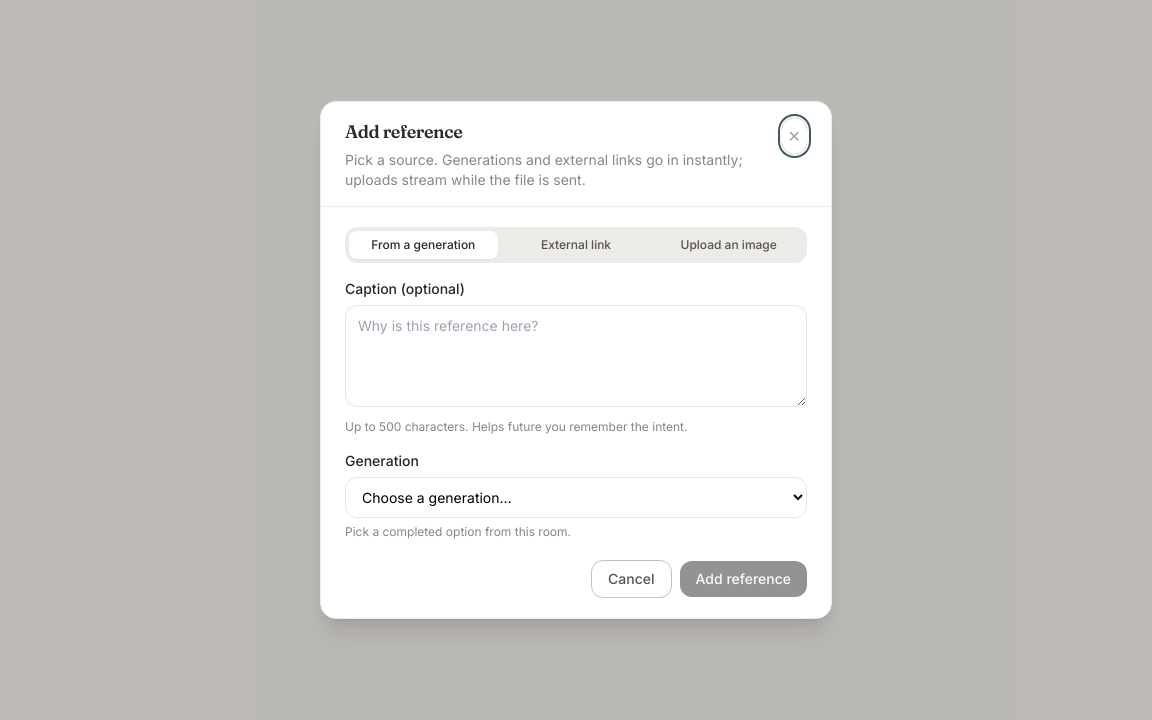
Test: <AddReferenceModal /> › validates EXTERNAL_URL before allowing submit
Click the tab "External link".
click(576, 245)  # box [502,231,650,259]
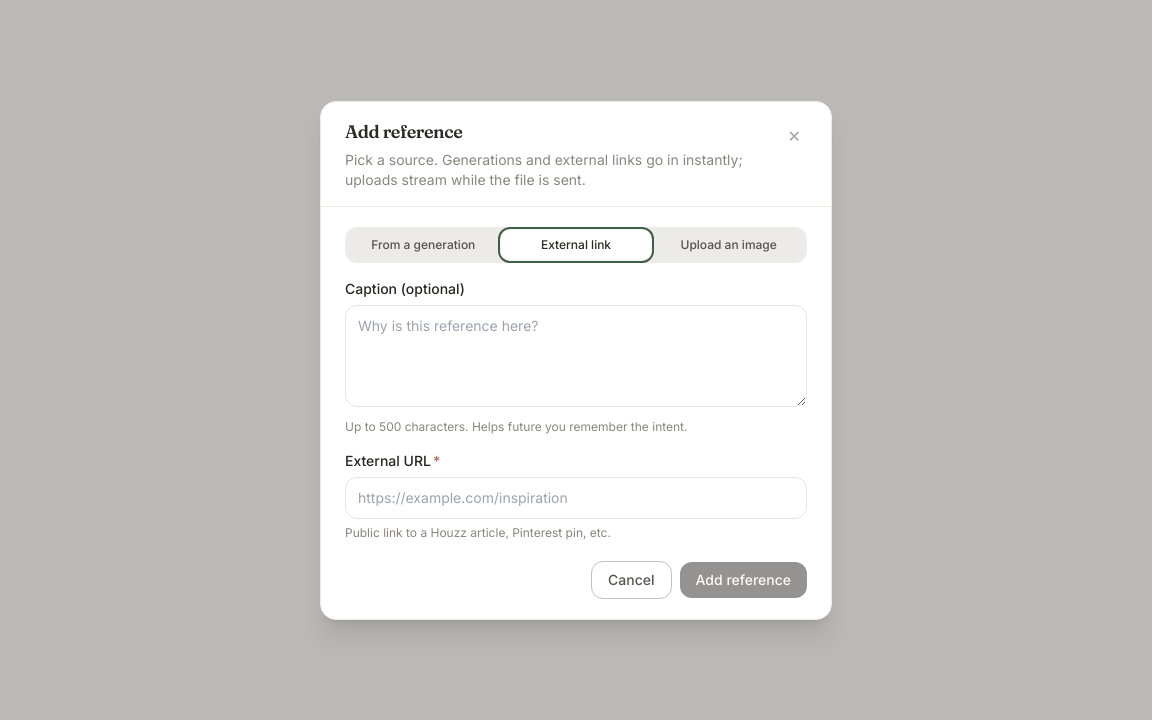
Check: the button with test id "add-reference-submit" is disabled, box [680,562,807,598]
Type "not-a-url" into the field labelled "External URL*".
click(576, 498); type("not-a-url")  # box [345,476,807,518]
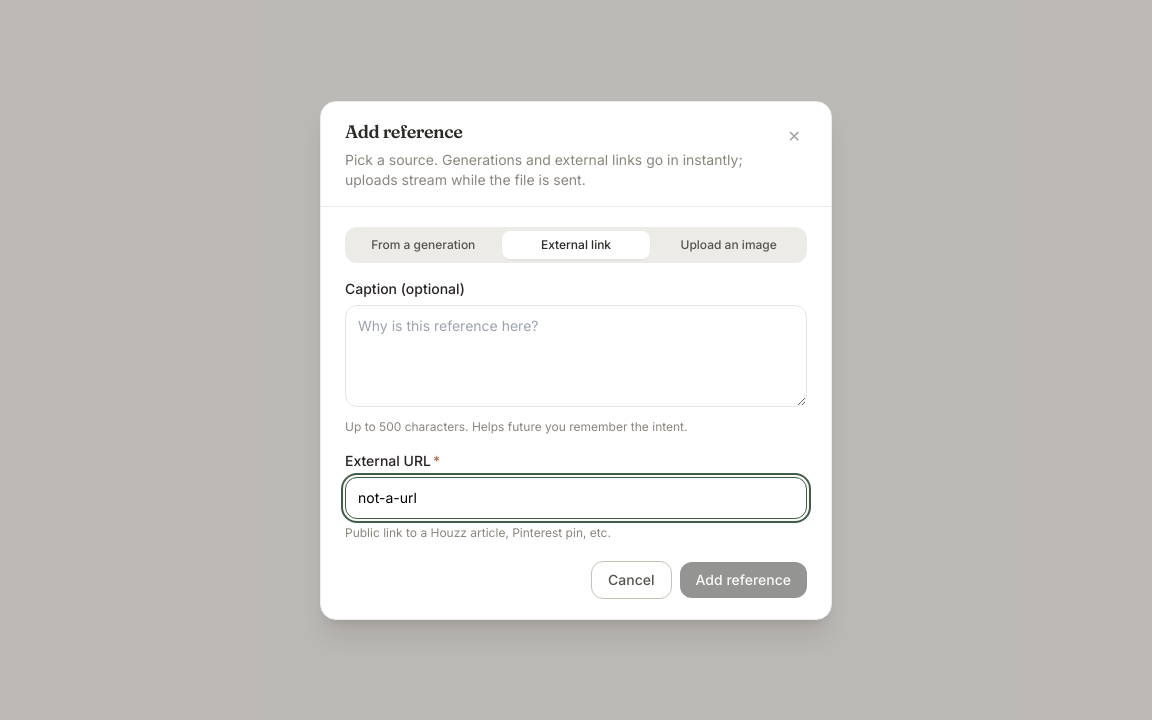
Check: the button with test id "add-reference-submit" is disabled, box [680,562,807,598]
Replace the text in the field labelled "External URL*" with "https://example.com/inspo" at x=576, y=498, box [345,476,807,518]
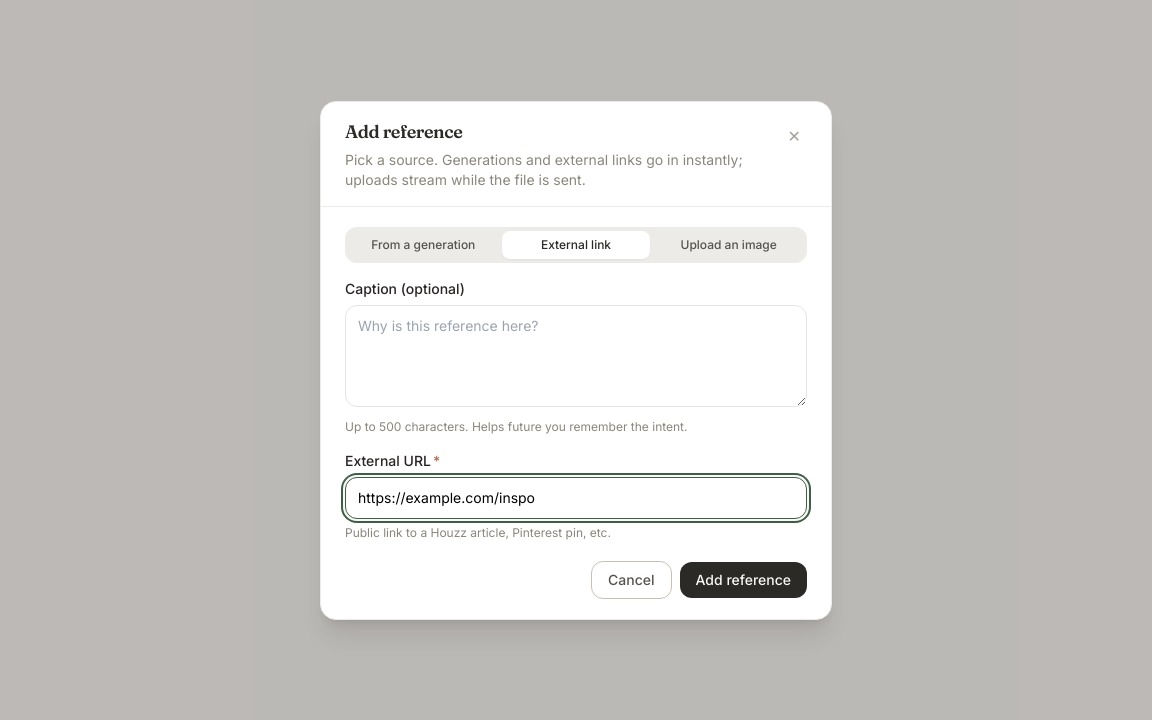
Check: the button with test id "add-reference-submit" is enabled, box [680,562,807,598]
